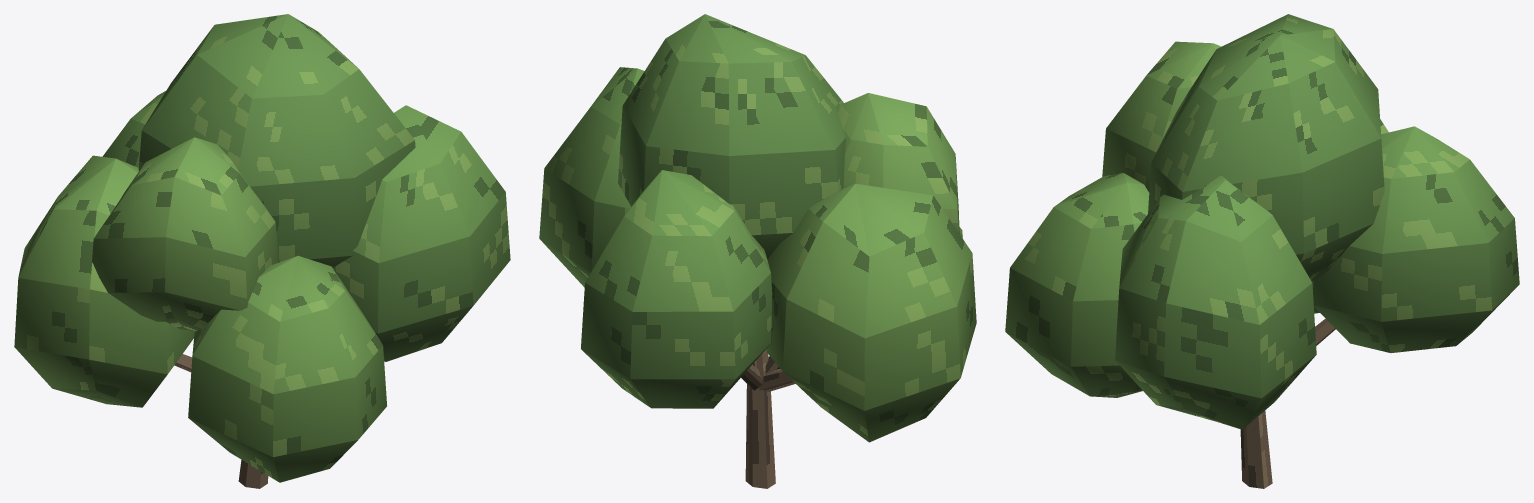
Rendered from t_shrub.glb.
3 renders of one model, left to right at view 1: azimuth 30°, elevation 25°; view 2: azimuth 150°, elevation 25°; view 3: azimuth 270°, elevation 25°, orthographic. The views are drawn at different scales.
Visible parts, largest first — view 1: t_shrub_mesh; view 2: t_shrub_mesh; view 3: t_shrub_mesh.
Boxes of the visible parts, x1,y1,x2,y2 form: t_shrub_mesh: (14,14,510,488); t_shrub_mesh: (539,14,976,488); t_shrub_mesh: (1005,14,1519,488).
Bounding box in the file's own units: 1 × 1 × 0.9929.
Materials: 1 (1 with a texture image).
